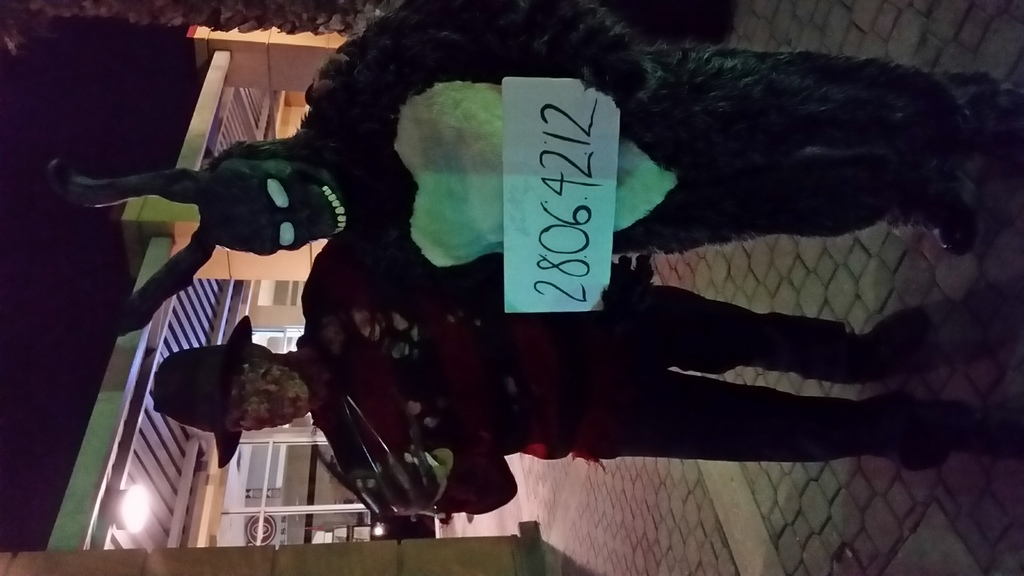Person: (43, 0, 1023, 337), (154, 241, 990, 521)
